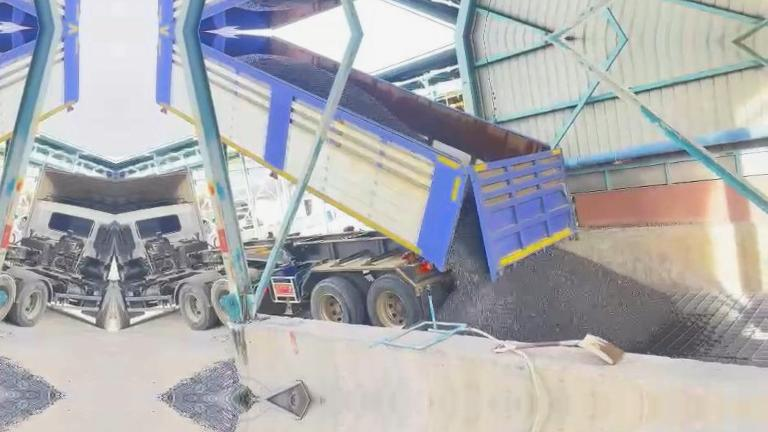gravel: (439, 192, 673, 350), (341, 81, 425, 141), (238, 54, 334, 98), (158, 360, 253, 399)
